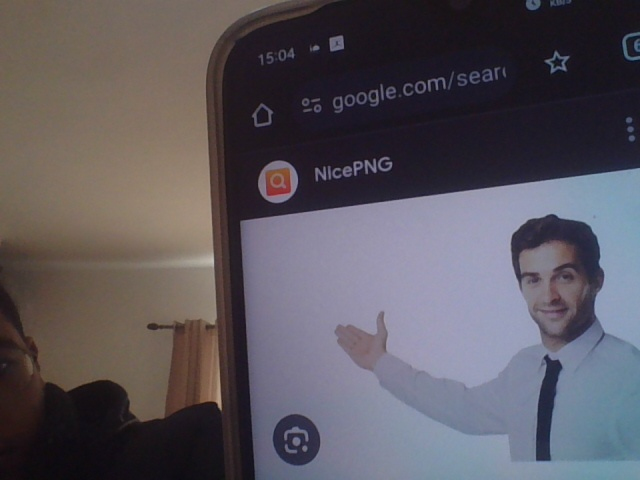fake: (511, 211, 604, 343)
